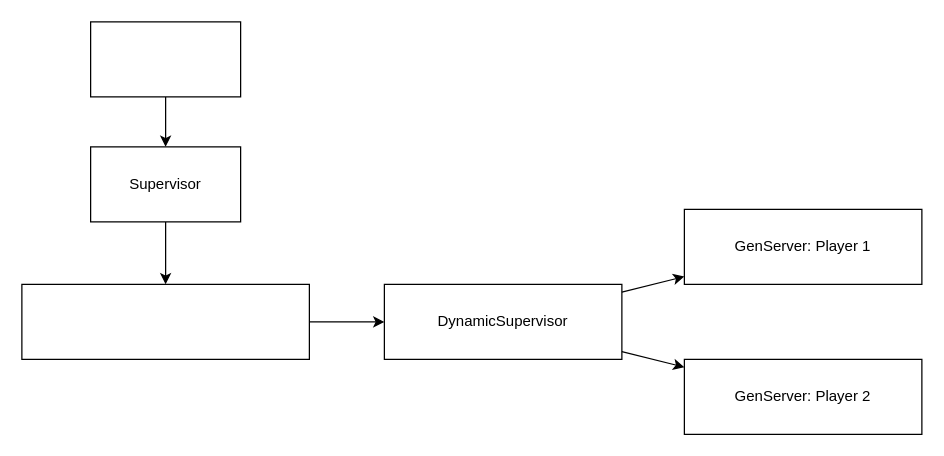
Some shapes in this 944 by 456 pixel diagram are drawn without their labels. The centre of each missing label's shape, as x and y in pixels:
"Application" goes at pixel 165 59.
"ToyRobot.Game.PlayerSupervisor" goes at pixel 165 321.
